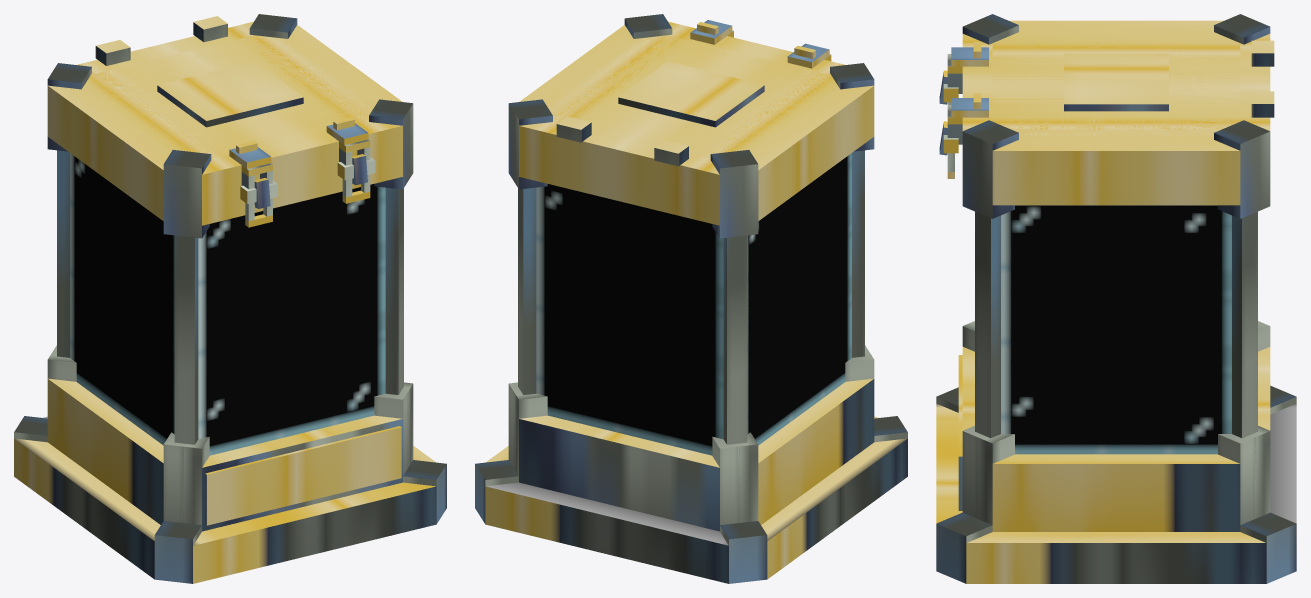
The model's file is item.obj.
The picture shows the model from 3 angles, left to right: view 1: azimuth 30°, elevation 25°; view 2: azimuth 150°, elevation 25°; view 3: azimuth 270°, elevation 25°; orthographic projection. The views are drawn at different scales.
Parts seen in each view (by area): view 1: frame; view 2: frame; view 3: frame.
Part boxes in pixels (x1,y1,x2,y2): frame: [14, 14, 446, 583]; frame: [475, 14, 907, 583]; frame: [936, 14, 1296, 583].
Bounding box in the file's own units: 0.75 × 1 × 0.75.
